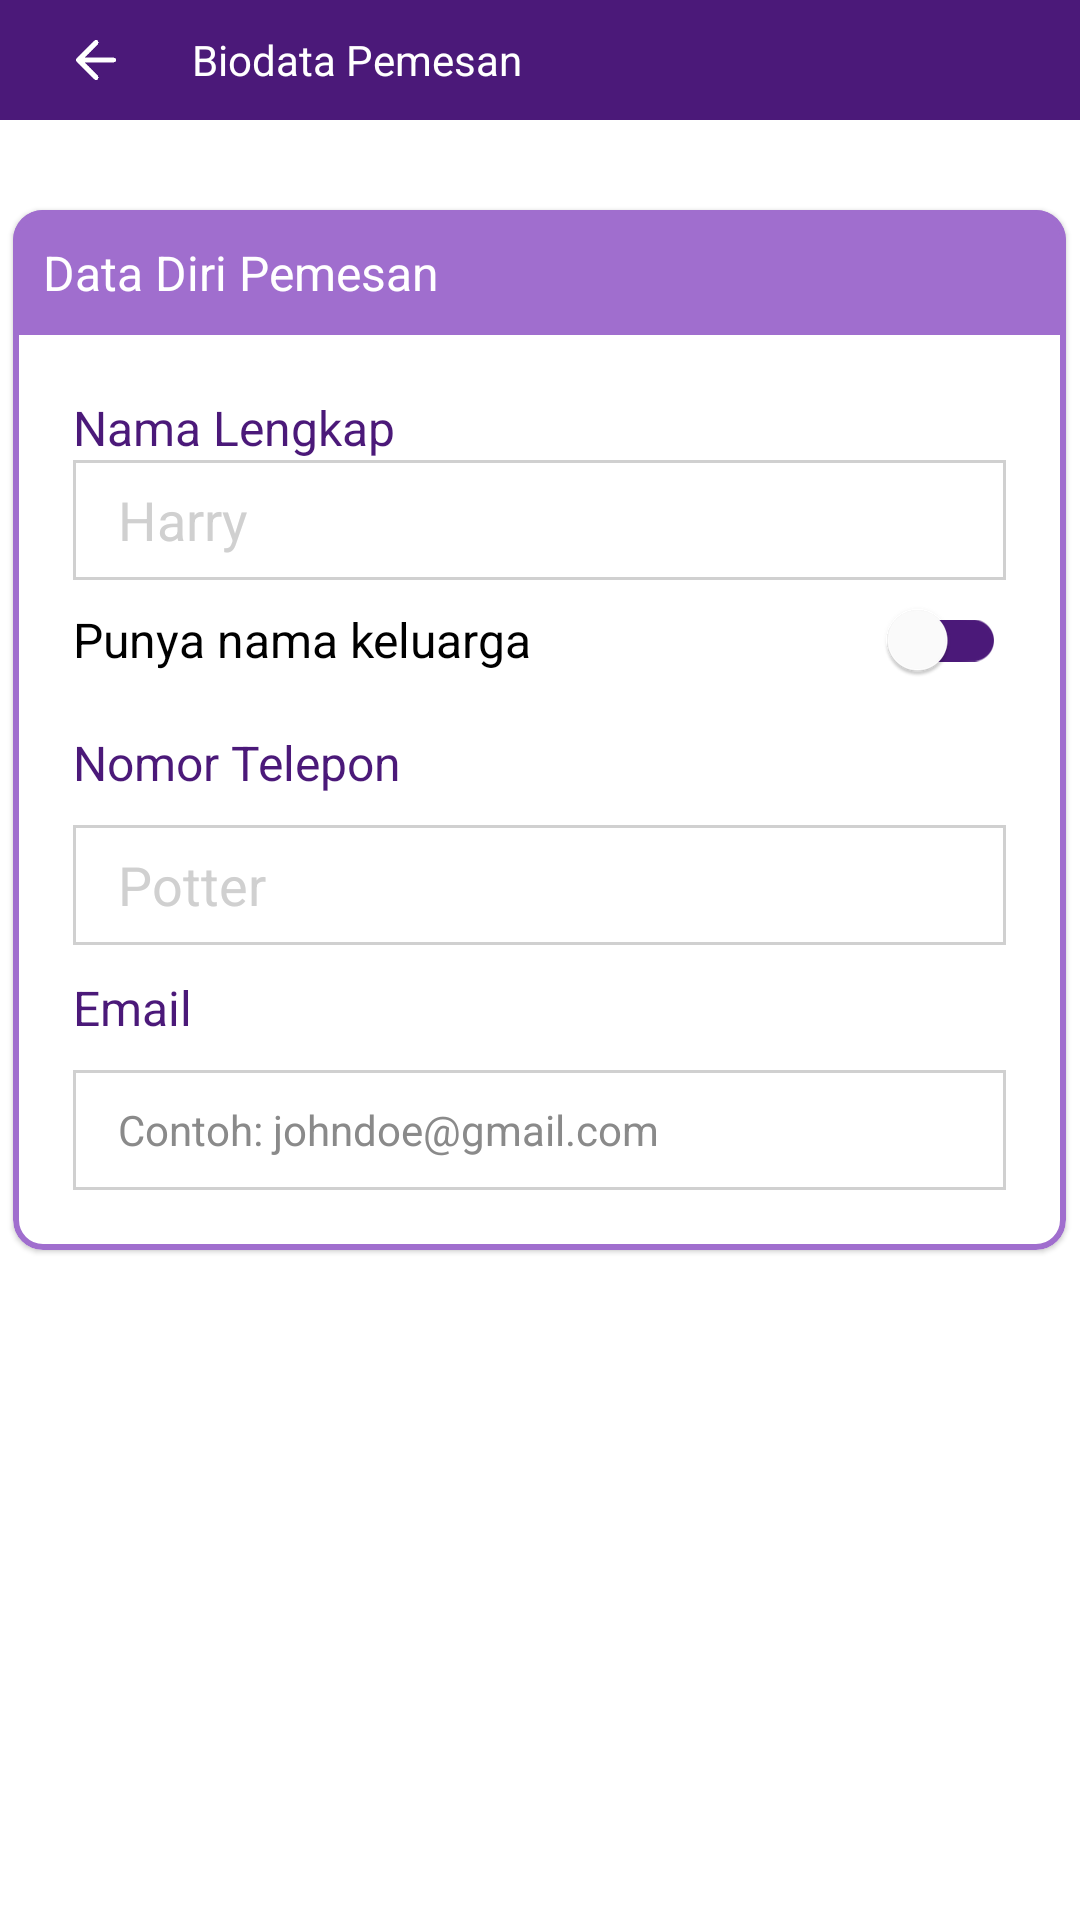

Where to tap for icons on this 1080px×1920px app screen, as (x=x, y=y):
back: (x=96, y=60)
